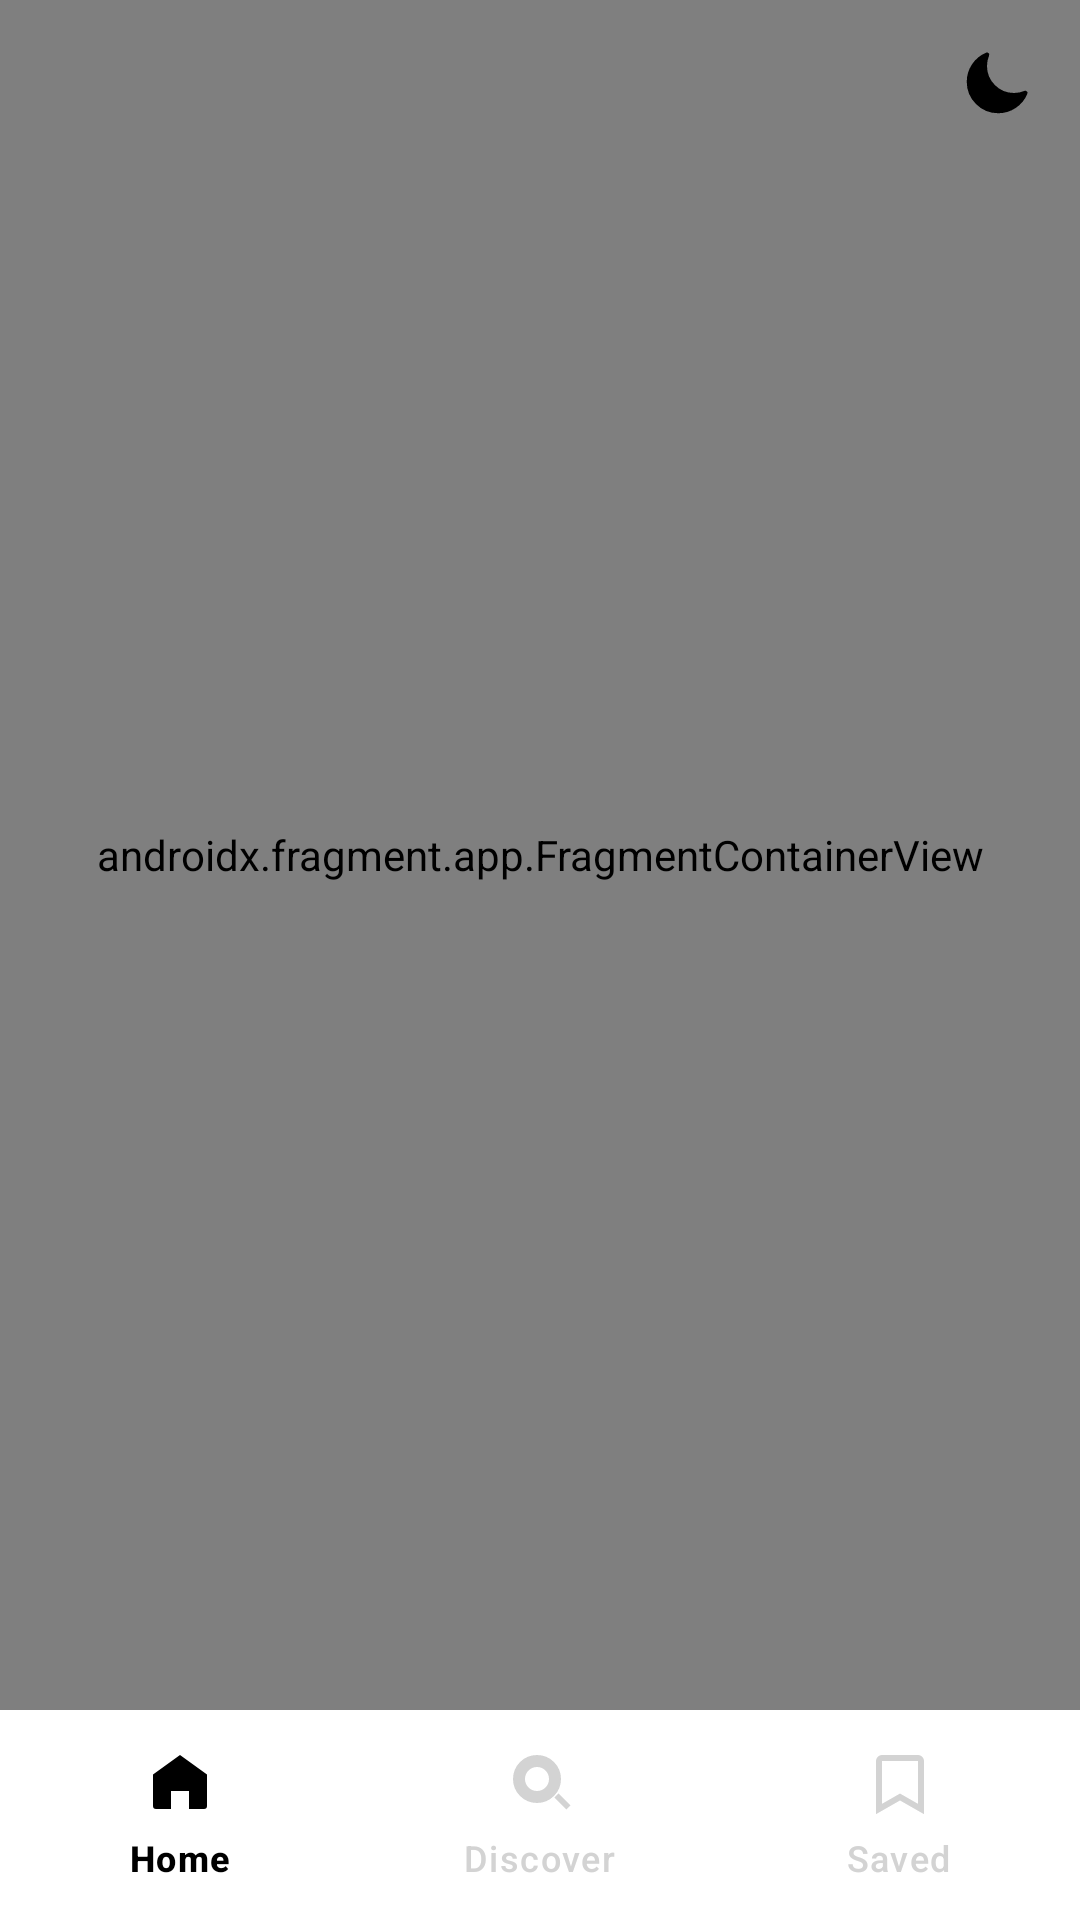

Point at icon controls on the screen. Image size 1080*1920, points as (x=x, y=y).
Toggle Theme: (x=997, y=83)
